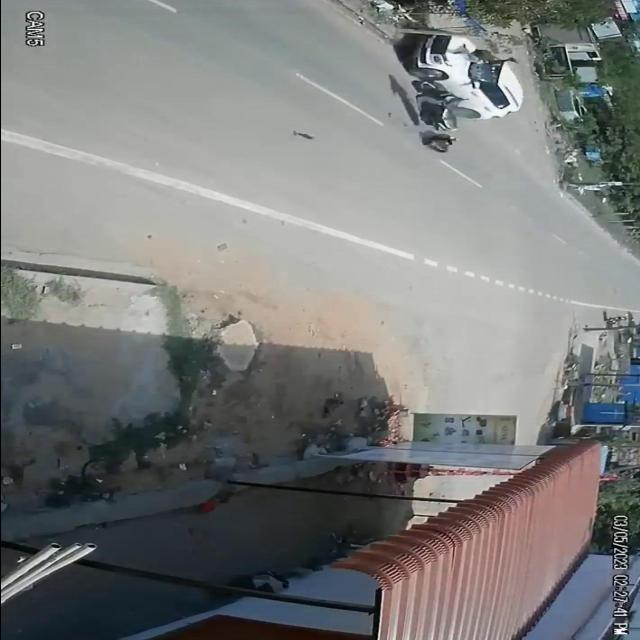accident: (393, 32, 533, 156)
